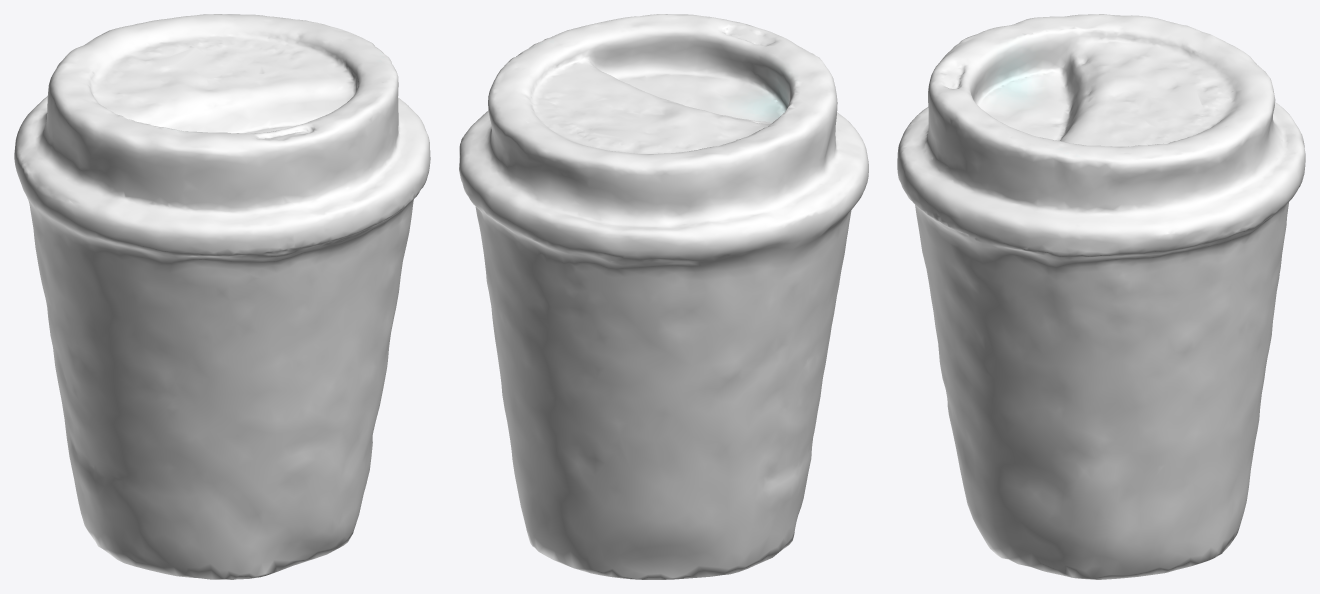
3 renders of one model, left to right at view 1: azimuth 30°, elevation 25°; view 2: azimuth 150°, elevation 25°; view 3: azimuth 270°, elevation 25°, orthographic. The views are drawn at different scales.
Parts seen in each view (by area): view 1: Mesh_0; view 2: Mesh_0; view 3: Mesh_0.
Boxes of the visible parts, <box> form: Mesh_0: <box>14,14,430,579</box>; Mesh_0: <box>459,14,868,579</box>; Mesh_0: <box>897,14,1305,579</box>.
Bounding box in the file's own units: 0.0896 × 0.1068 × 0.0889.
1 material, 1 textured.
